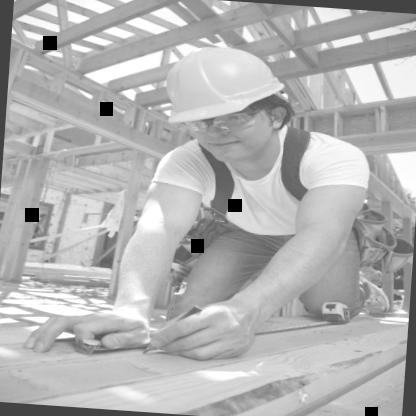helmet: (150, 33, 309, 181)
